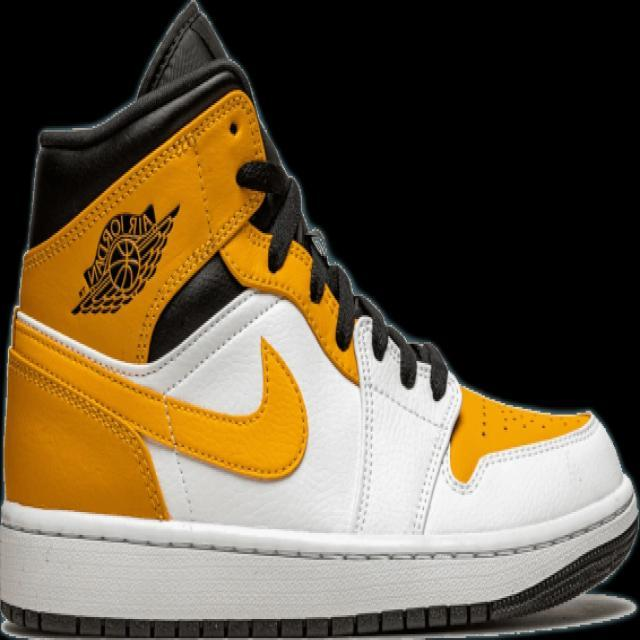J1_InsoleChar: (0, 0, 639, 639)
J1_ShoeLogo: (69, 200, 180, 316)
J1_StitchPattern: (0, 490, 638, 634), (20, 86, 255, 274), (5, 346, 170, 521), (300, 225, 452, 402), (348, 309, 459, 533), (234, 156, 360, 349), (0, 599, 492, 639), (350, 291, 452, 401), (301, 226, 359, 349), (350, 312, 380, 533)
